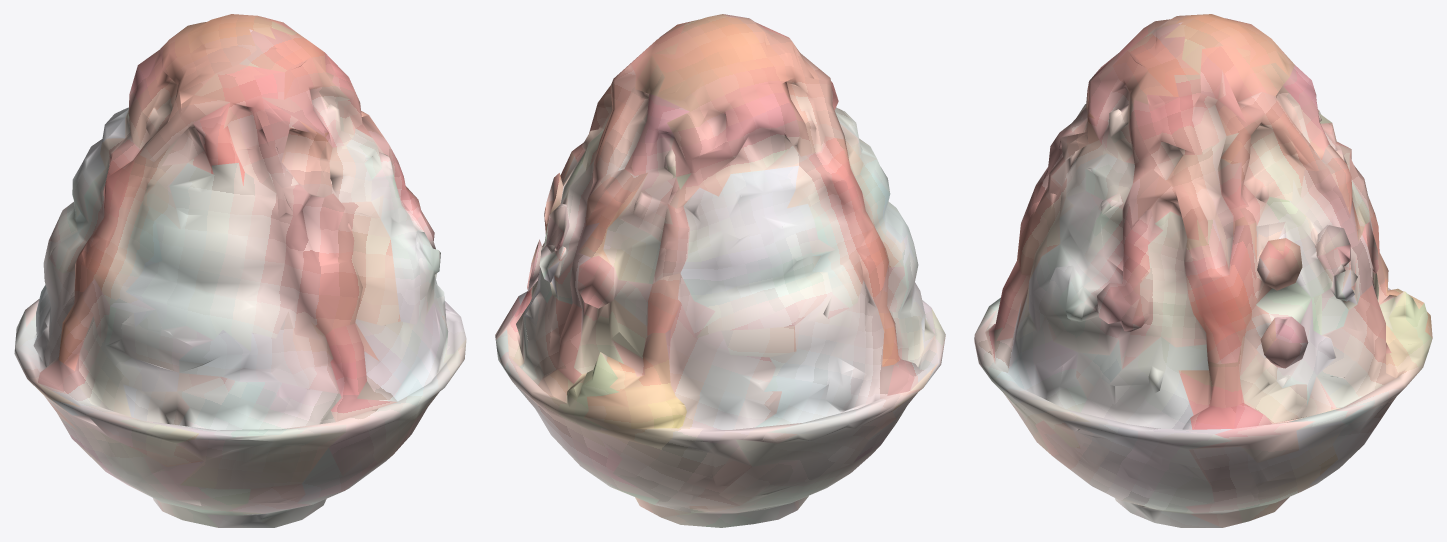
File: JP_사물_s2_food_tier3_sakura_premium_kakigori.glb
The picture shows the model from 3 angles, left to right: view 1: azimuth 30°, elevation 25°; view 2: azimuth 150°, elevation 25°; view 3: azimuth 270°, elevation 25°; orthographic projection.
Parts seen in each view (by area): view 1: tripo_node_839f3ca5-efdc-4102-b3b1-a4f4b8b9a608; view 2: tripo_node_839f3ca5-efdc-4102-b3b1-a4f4b8b9a608; view 3: tripo_node_839f3ca5-efdc-4102-b3b1-a4f4b8b9a608.
Part boxes in pixels (left/top/right/bottom): tripo_node_839f3ca5-efdc-4102-b3b1-a4f4b8b9a608: left=14, top=14, right=466, bottom=527; tripo_node_839f3ca5-efdc-4102-b3b1-a4f4b8b9a608: left=495, top=14, right=945, bottom=527; tripo_node_839f3ca5-efdc-4102-b3b1-a4f4b8b9a608: left=974, top=14, right=1432, bottom=527.
Bounding box in the file's own units: 0.8757 × 1 × 0.8855.
Materials: 1 (1 with a texture image).
